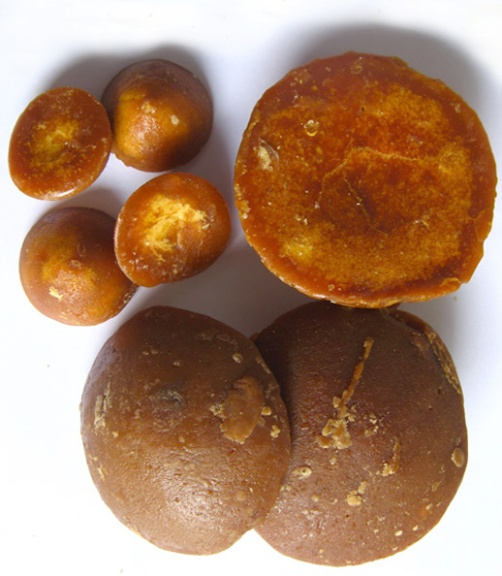hakuru: (231, 47, 497, 309), (240, 299, 469, 568), (78, 304, 292, 560), (111, 173, 228, 288), (21, 204, 130, 326), (106, 55, 215, 171), (11, 87, 110, 200)
